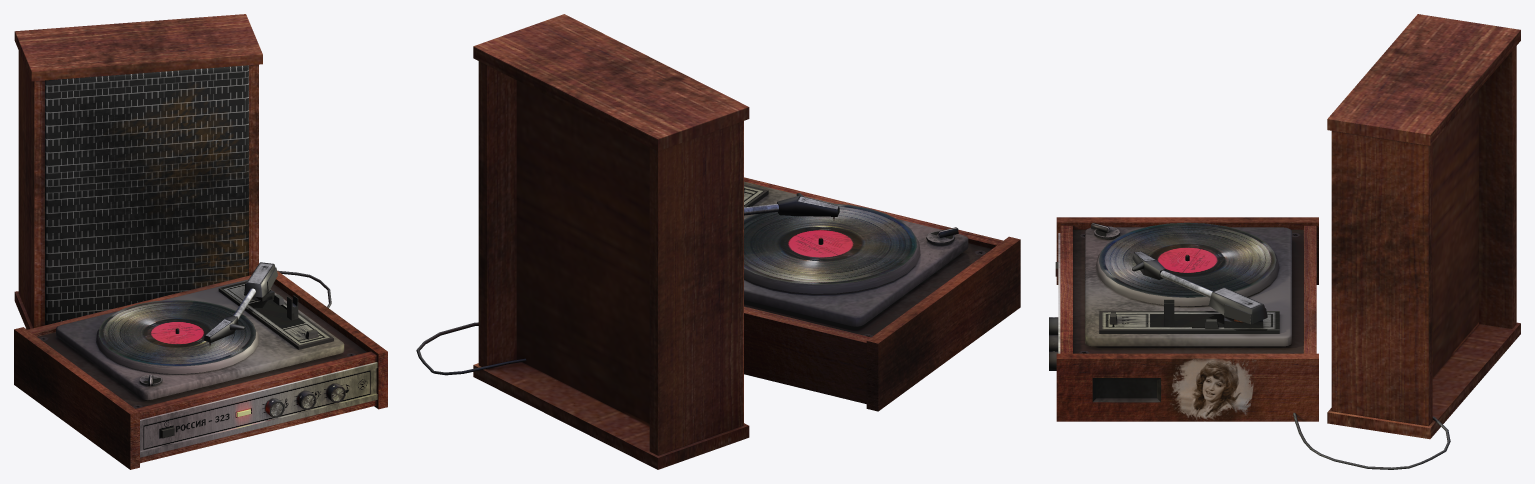
3 views of the same model, side by side, from view 1: azimuth 30°, elevation 25°; view 2: azimuth 150°, elevation 25°; view 3: azimuth 270°, elevation 25° (orthographic). The views are drawn at different scales.
Visible parts, largest first — view 1: RS323; view 2: RS323; view 3: RS323.
Part boxes in pixels (box(x1,y1,x2,y2)): RS323: box(14, 14, 387, 469); RS323: box(416, 14, 1020, 469); RS323: box(1049, 14, 1520, 469).
Bounding box in the file's own units: 11.72 × 8.92 × 12.51.
Materials: 1 (1 with a texture image).
